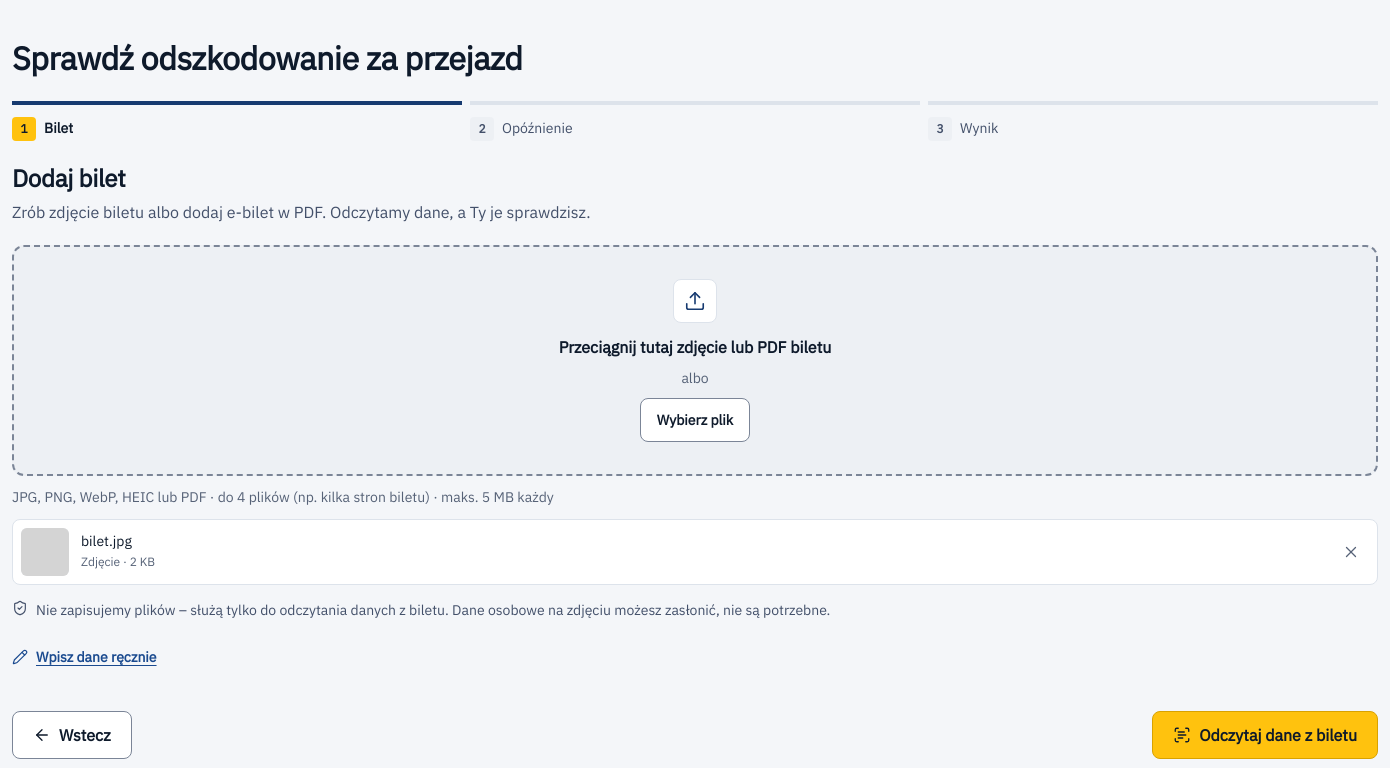
Wizard – ticket step › switches to manual entry with a message on 502 and keeps what was typed
Earlier steps of the test are not shown.
Click the button "Odczytaj dane z biletu".
click(1265, 736)  # box left=1152, top=712, right=1378, bottom=760
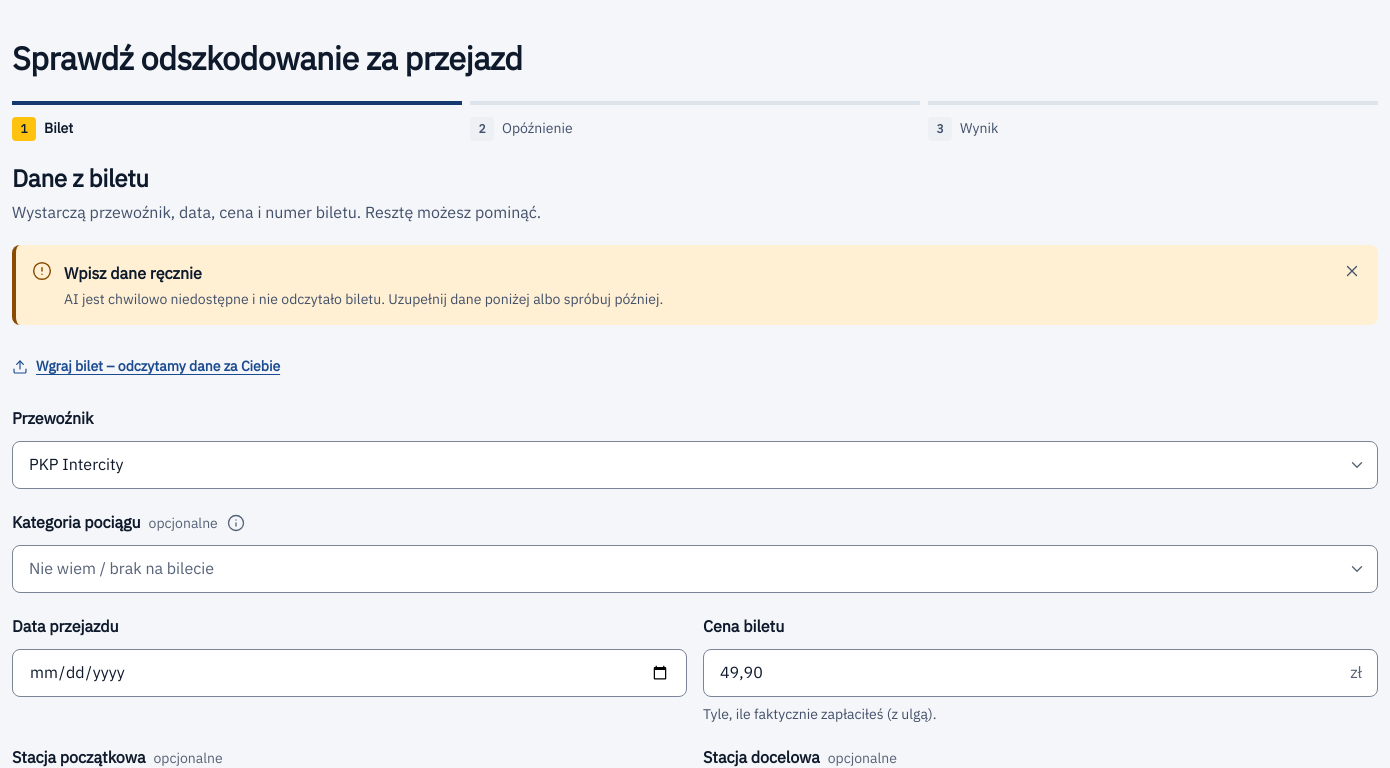
Expected: the message "Wpisz dane ręcznie" shows "niedostępn", left=64, top=290, right=663, bottom=308
Expected: the dropdown labelled "Przewoźnik" shows "PKP Intercity", left=12, top=441, right=1378, bottom=489
Expected: the field labelled "Cena biletu" holds "49,90", left=703, top=649, right=1378, bottom=697
